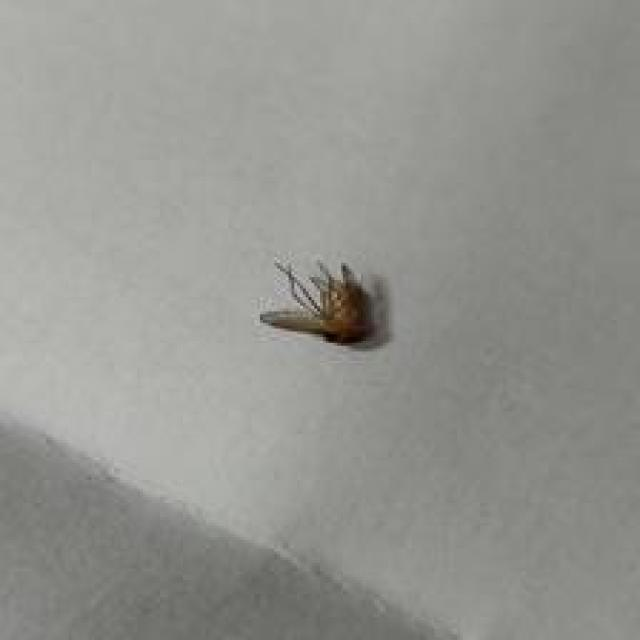Culex: (257, 257, 377, 346)
